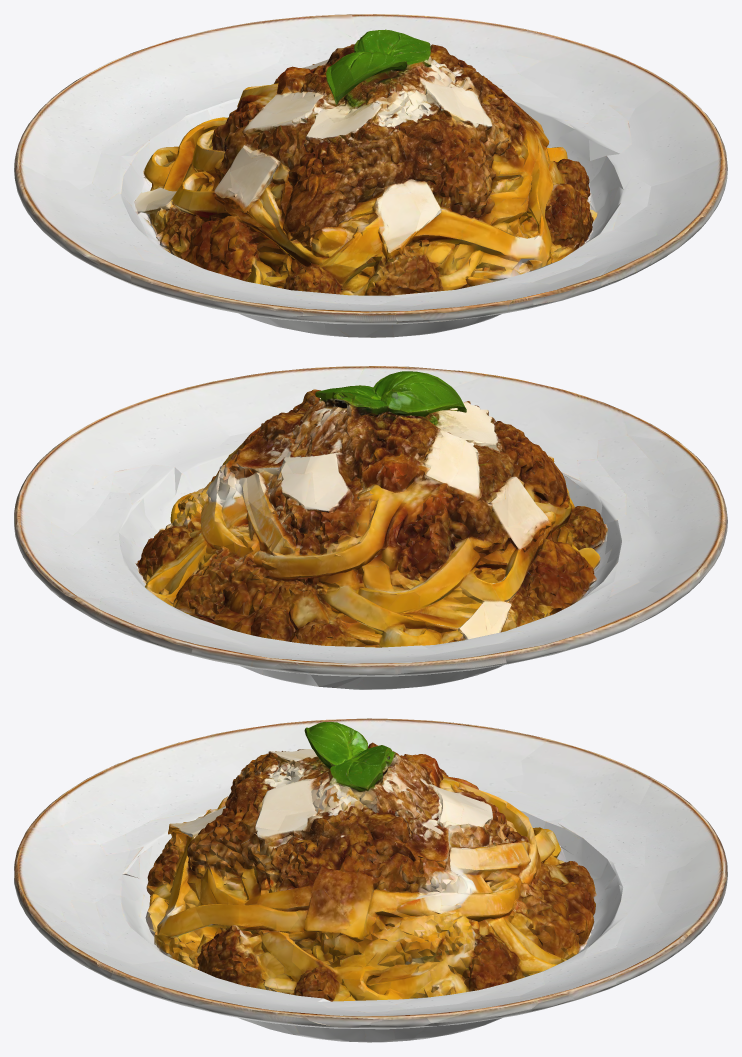
The picture shows the model from 3 angles, top to bottom: view 1: azimuth 30°, elevation 25°; view 2: azimuth 150°, elevation 25°; view 3: azimuth 270°, elevation 25°; orthographic projection.
Parts seen in each view (by area): view 1: Mesh_0; view 2: Mesh_0; view 3: Mesh_0.
Part boxes in pixels (bbox=[...]): Mesh_0: bbox=[14, 14, 727, 337]; Mesh_0: bbox=[14, 366, 727, 689]; Mesh_0: bbox=[14, 718, 727, 1042].
Bounding box in the file's own units: 0.2898 × 0.1026 × 0.2896.
1 material, 1 textured.
